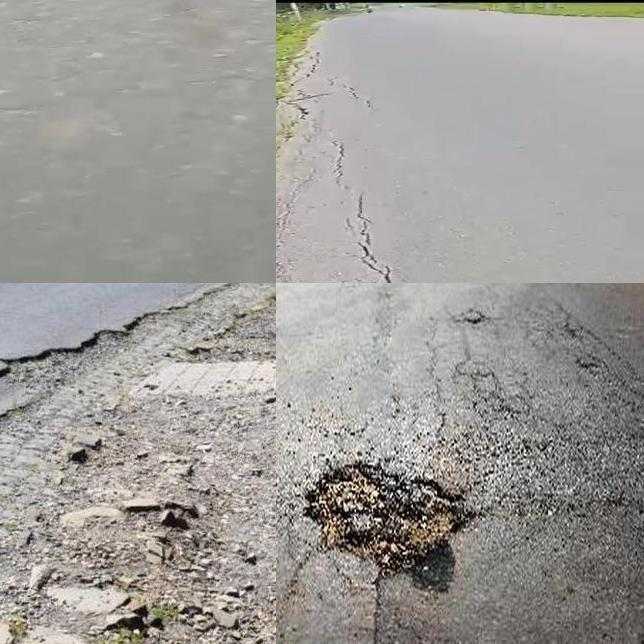Lubang: (315, 467, 478, 590)
Memanjang: (322, 137, 420, 283)
Pinggir: (0, 283, 276, 644)
